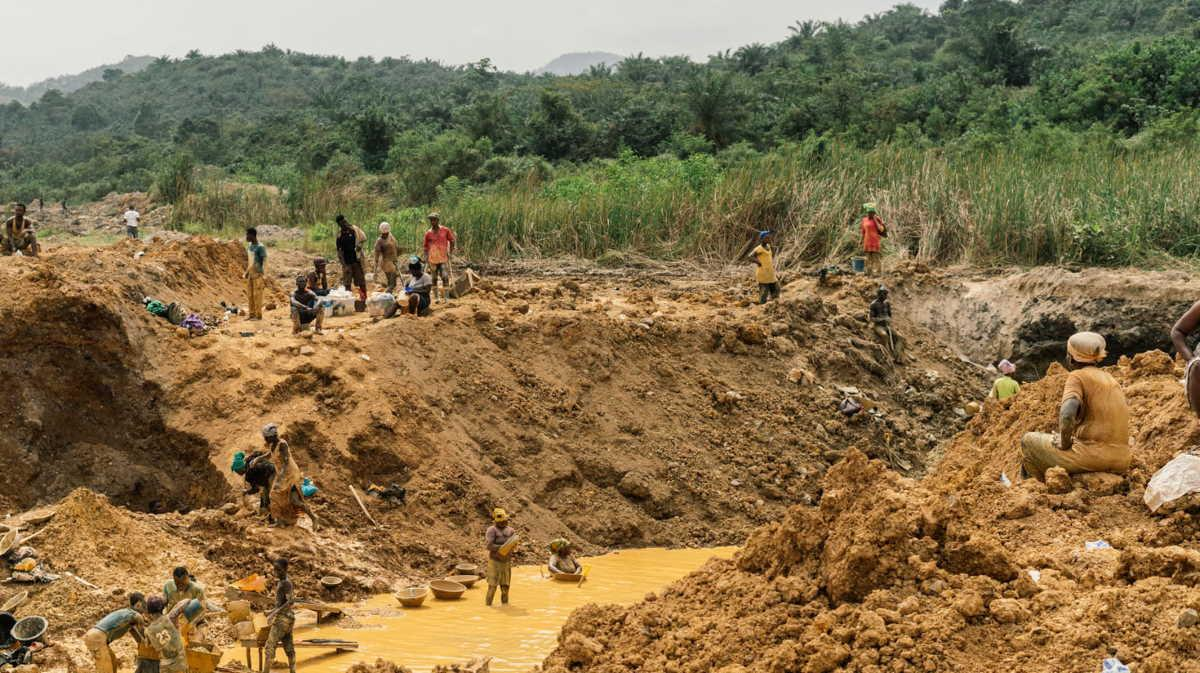MiningTool: (349, 478, 382, 532), (12, 613, 50, 644), (394, 588, 429, 610), (1, 525, 22, 558), (445, 252, 459, 298), (431, 582, 466, 600), (443, 573, 480, 589), (2, 590, 27, 613), (20, 509, 56, 524), (181, 599, 204, 620), (885, 318, 896, 361), (1, 611, 14, 647), (846, 256, 867, 274), (500, 536, 519, 555), (394, 261, 406, 287), (316, 575, 344, 586), (453, 562, 480, 573), (561, 573, 588, 583)
Person: (1018, 328, 1133, 478), (264, 425, 324, 531), (1165, 285, 1200, 448), (84, 588, 144, 673), (261, 558, 297, 673), (330, 212, 369, 312), (143, 595, 189, 673), (230, 444, 280, 512), (238, 225, 271, 323), (483, 510, 515, 609), (422, 213, 457, 303), (869, 288, 907, 361), (289, 274, 328, 340), (748, 232, 784, 303), (856, 202, 888, 280), (393, 260, 435, 317), (163, 567, 206, 622), (370, 222, 402, 292), (5, 205, 42, 255), (544, 538, 582, 581), (989, 357, 1023, 404), (306, 254, 334, 303), (123, 204, 142, 239), (148, 497, 167, 515)
ProcessingEquiment: (224, 576, 345, 622), (240, 632, 365, 671)
